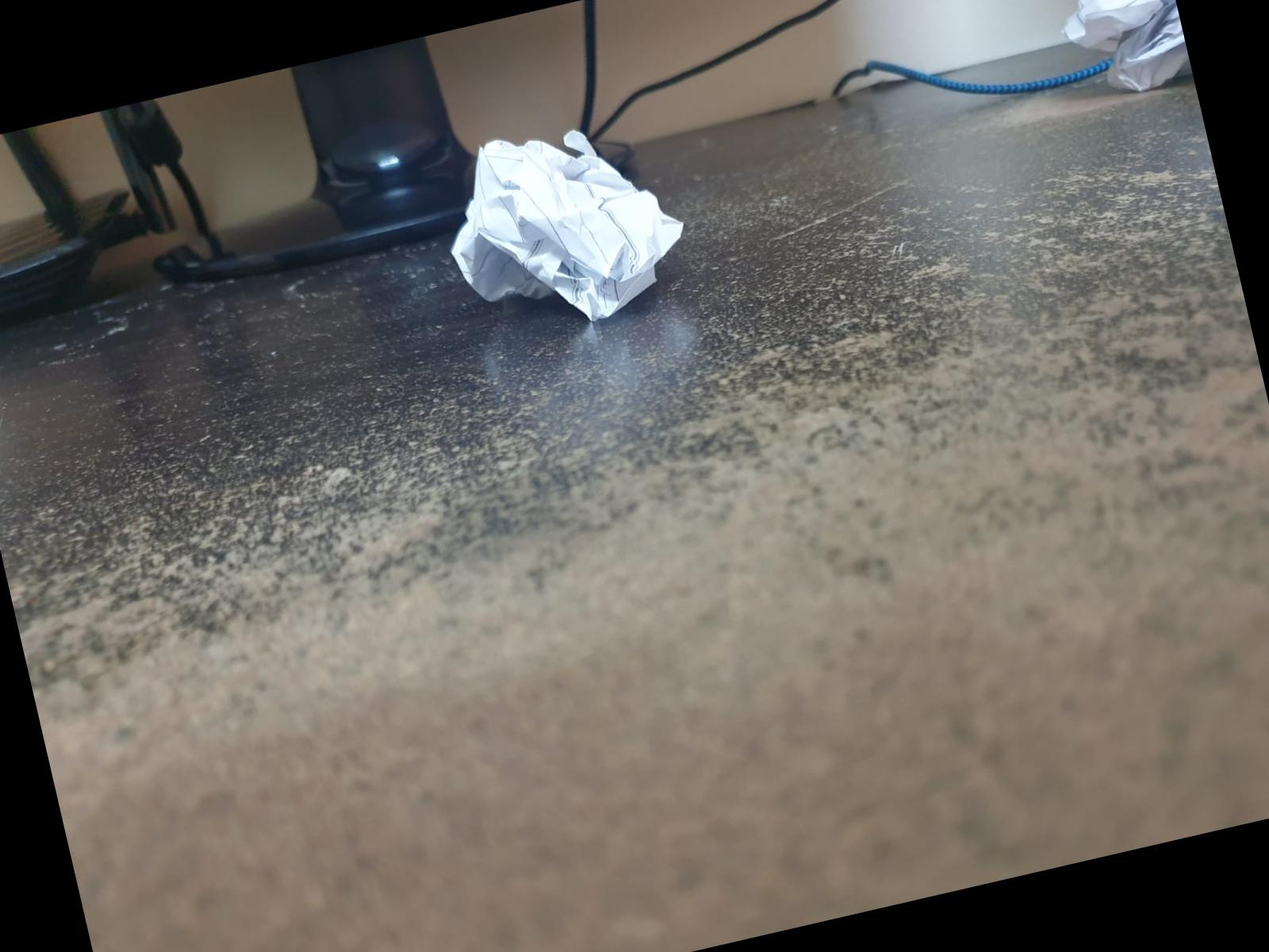Kertas: (447, 130, 691, 333)
